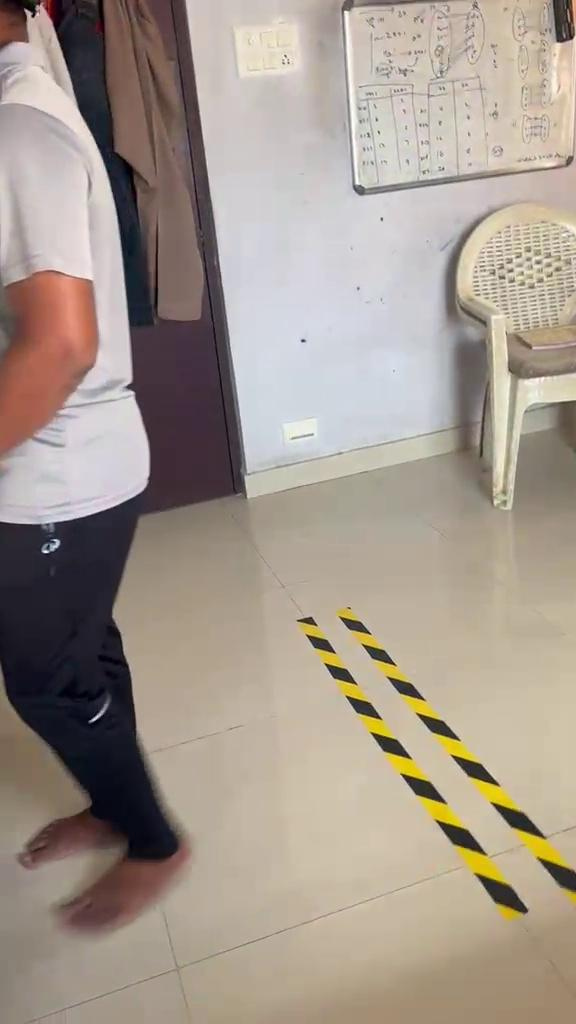BorderLine: (295, 606, 576, 924)
No_Vest: (0, 40, 150, 525)
Person: (0, 0, 195, 938)
